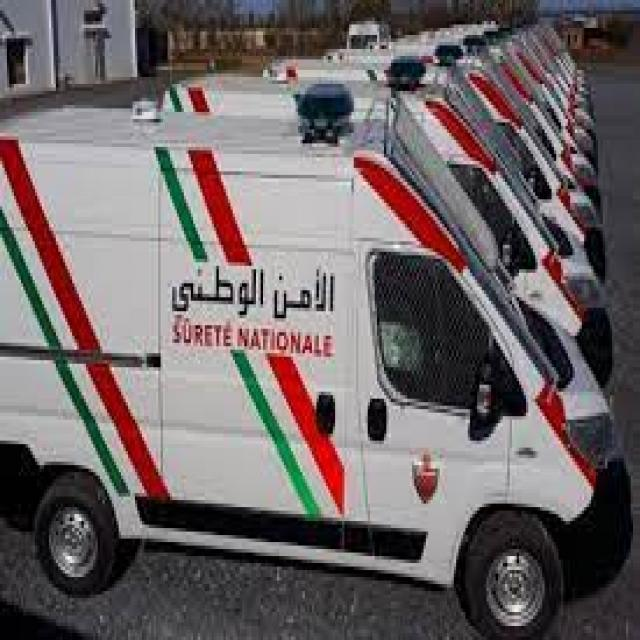police: (0, 89, 632, 640)
